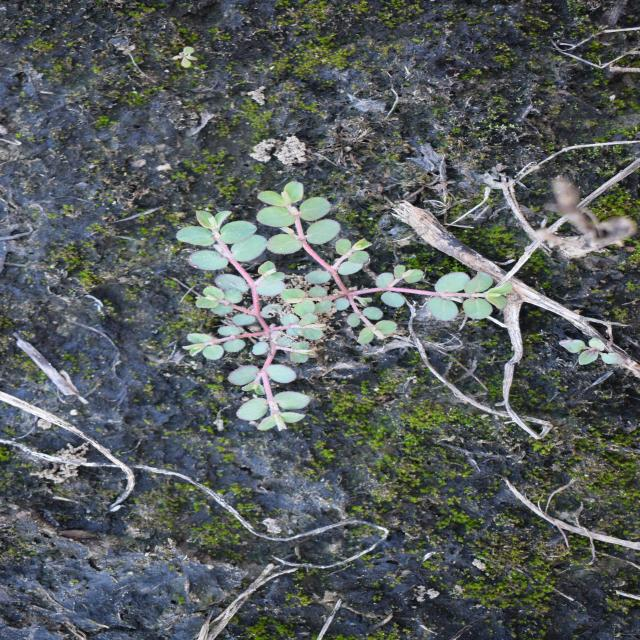SpottedSpurge: (173, 179, 517, 433)
